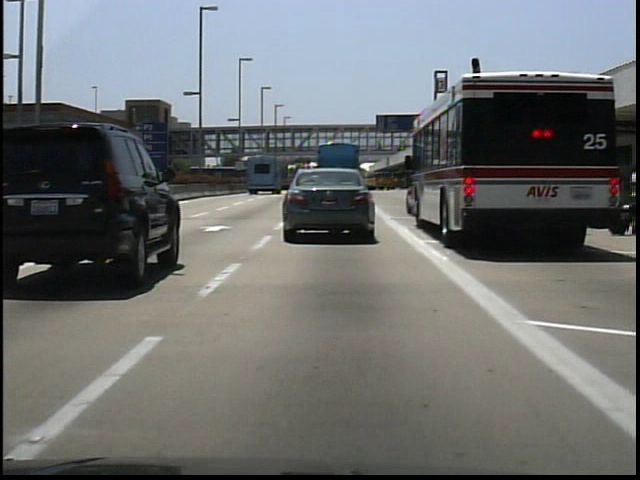person: (399, 136, 413, 158), (374, 137, 388, 157)
